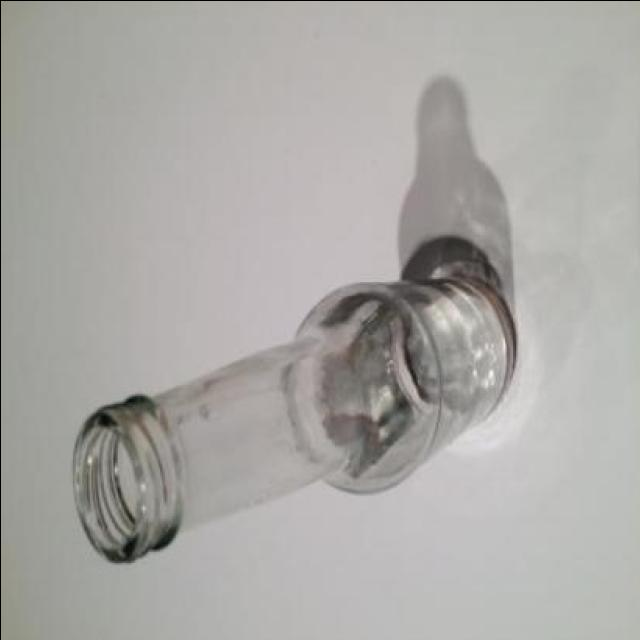kaca: (70, 274, 516, 560)
